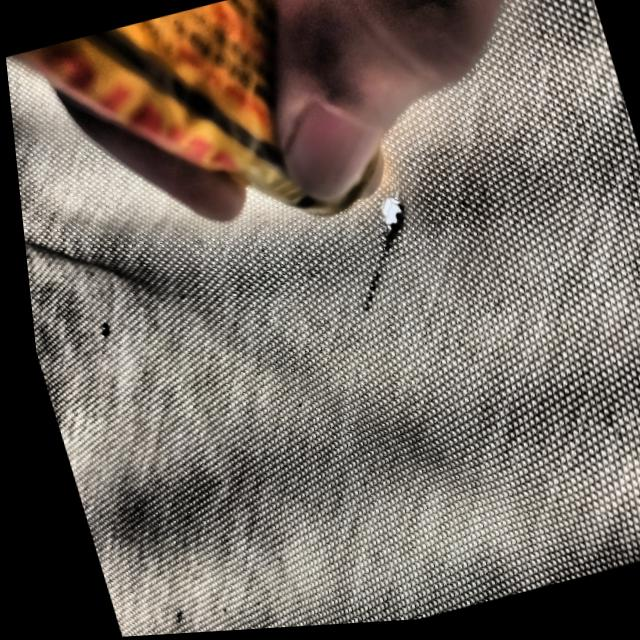Hole: (367, 193, 402, 233)
Stitch: (332, 227, 418, 319)
